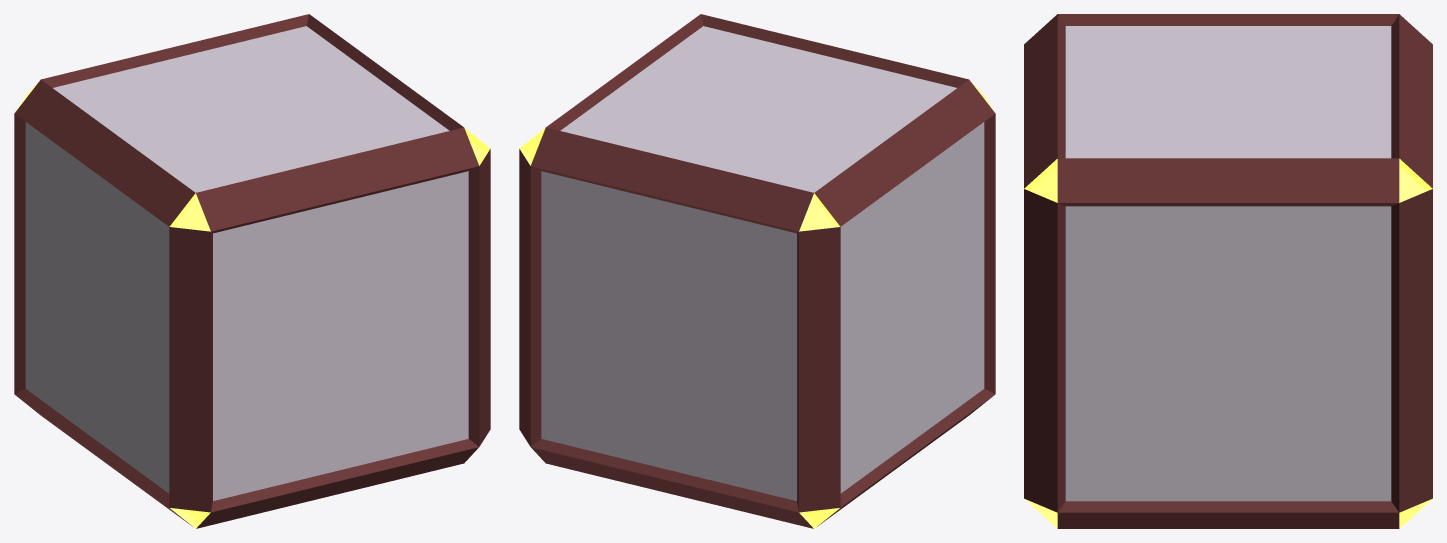
Rendered from GlyphRaider_keycube.glb.
3 renders of one model, left to right at view 1: azimuth 30°, elevation 25°; view 2: azimuth 150°, elevation 25°; view 3: azimuth 270°, elevation 25°, orthographic. The views are drawn at different scales.
Parts seen in each view (by area): view 1: Cube-col; view 2: Cube-col; view 3: Cube-col.
Boxes of the visible parts, x1,y1,x2,y2 form: Cube-col: (14, 14, 490, 528); Cube-col: (519, 14, 995, 528); Cube-col: (1024, 14, 1432, 528).
Bounding box in the file's own units: 0.7343 × 0.7343 × 0.7343.
